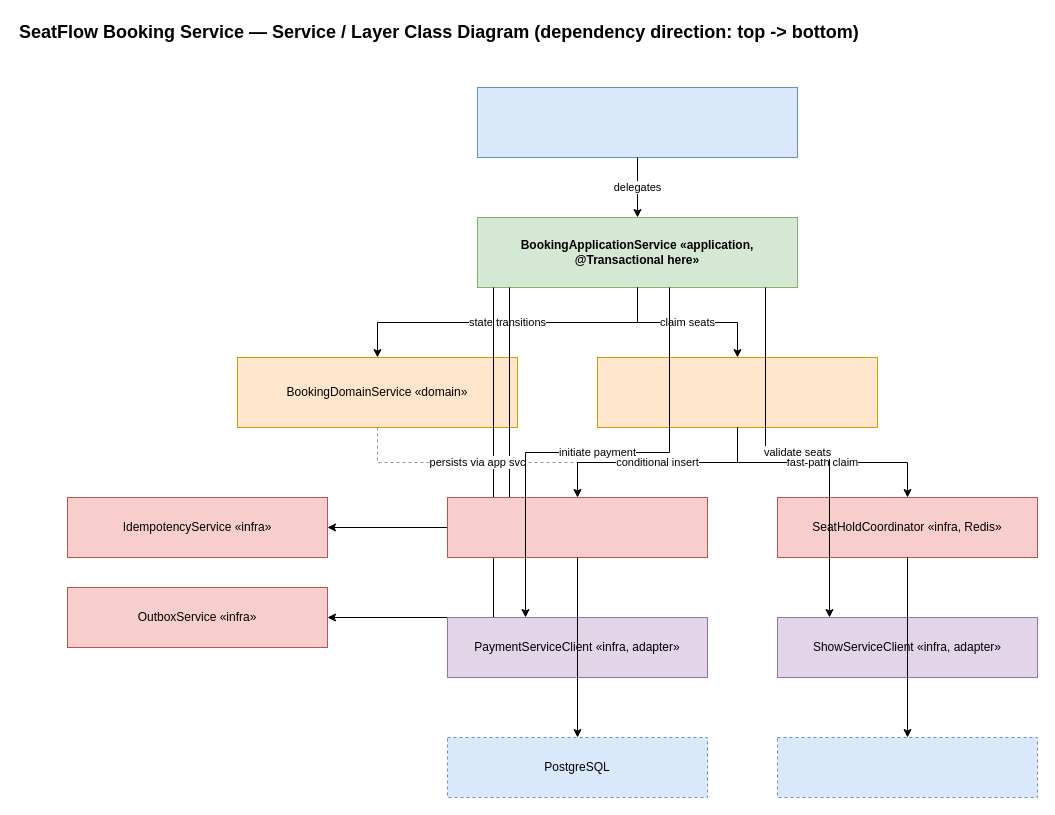
This 1055x815 diagram has some shape labels left out. Each missing label, with the centre of its shape:
BookingController «api»: pixel 637 122
BookingRepository «infra, JPA»: pixel 577 527
Redis: pixel 907 767
SeatHoldDomainService «domain»: pixel 737 392
